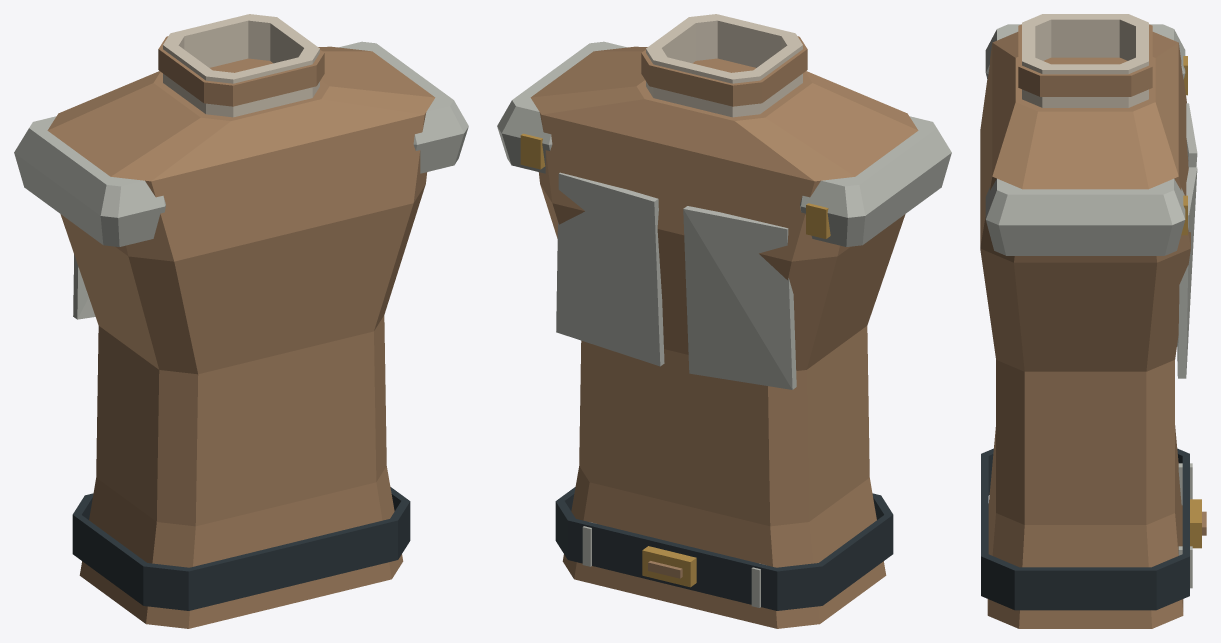
The picture shows the model from 3 angles, left to right: view 1: azimuth 30°, elevation 25°; view 2: azimuth 150°, elevation 25°; view 3: azimuth 270°, elevation 25°; orthographic projection.
Parts seen in each view (by area): view 1: 现有程序躯干 · 同用途配色; view 2: 现有程序躯干 · 同用途配色; view 3: 现有程序躯干 · 同用途配色.
Boxes of the visible parts, bbox=[...] form: 现有程序躯干 · 同用途配色: bbox=[14, 14, 468, 628]; 现有程序躯干 · 同用途配色: bbox=[497, 14, 951, 628]; 现有程序躯干 · 同用途配色: bbox=[980, 14, 1206, 628].
Size of the model in its own units: 0.458 by 0.62 by 0.243.
5 materials, 5 textured.
